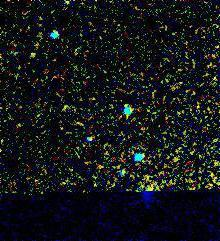star: (19, 40, 49, 70)
